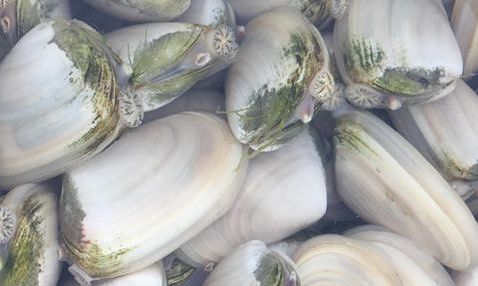tuatua: (58, 109, 251, 285), (333, 97, 475, 277), (170, 124, 330, 268), (1, 15, 122, 192), (226, 6, 325, 156), (330, 1, 463, 109), (102, 16, 230, 116)
